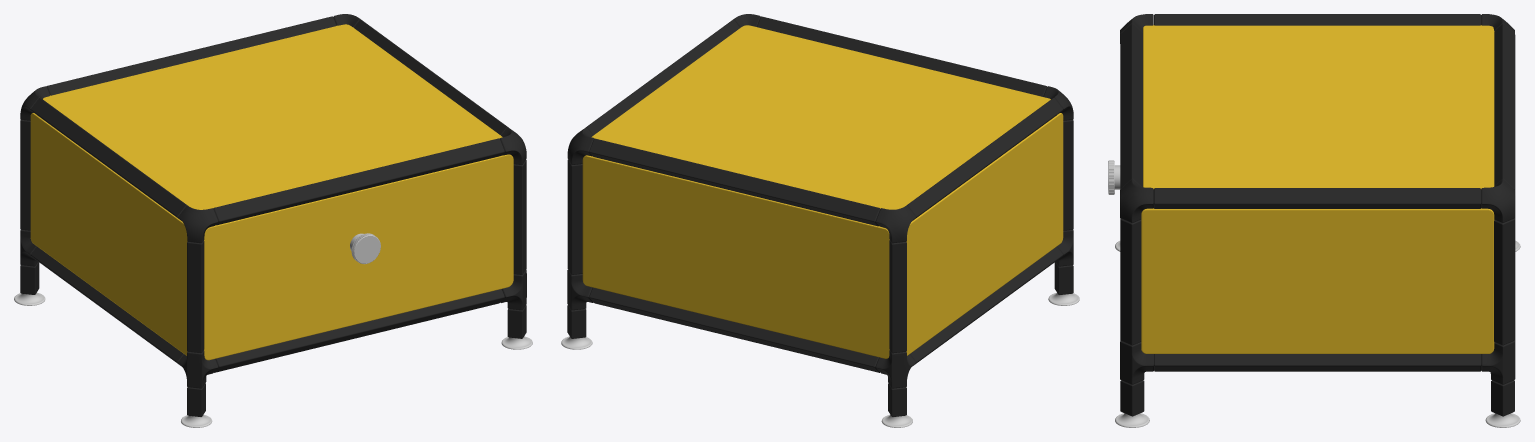
The picture shows the model from 3 angles, left to right: view 1: azimuth 30°, elevation 25°; view 2: azimuth 150°, elevation 25°; view 3: azimuth 270°, elevation 25°; orthographic projection. The views are drawn at different scales.
Visible parts, largest first — view 1: 420x374x154; view 2: 420x374x154; view 3: 420x374x154.
Boxes of the visible parts, bbox=[...] form: 420x374x154: bbox=[14, 14, 532, 427]; 420x374x154: bbox=[561, 14, 1079, 427]; 420x374x154: bbox=[1108, 14, 1520, 427].
Bounding box in the file's own units: 0.5099 × 0.2933 × 0.4707.
